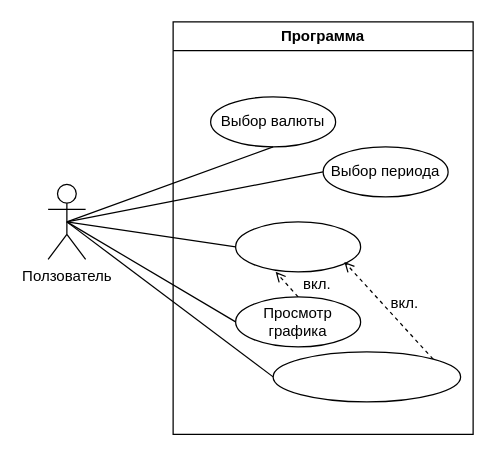
Some shapes in this 495 by 456 pixel diagram are drawn without their labels. Each missing label, with the centre of its shape:
"Построение графика" goes at (297,246).
"Просмотр среднего значения" goes at (366,376).
